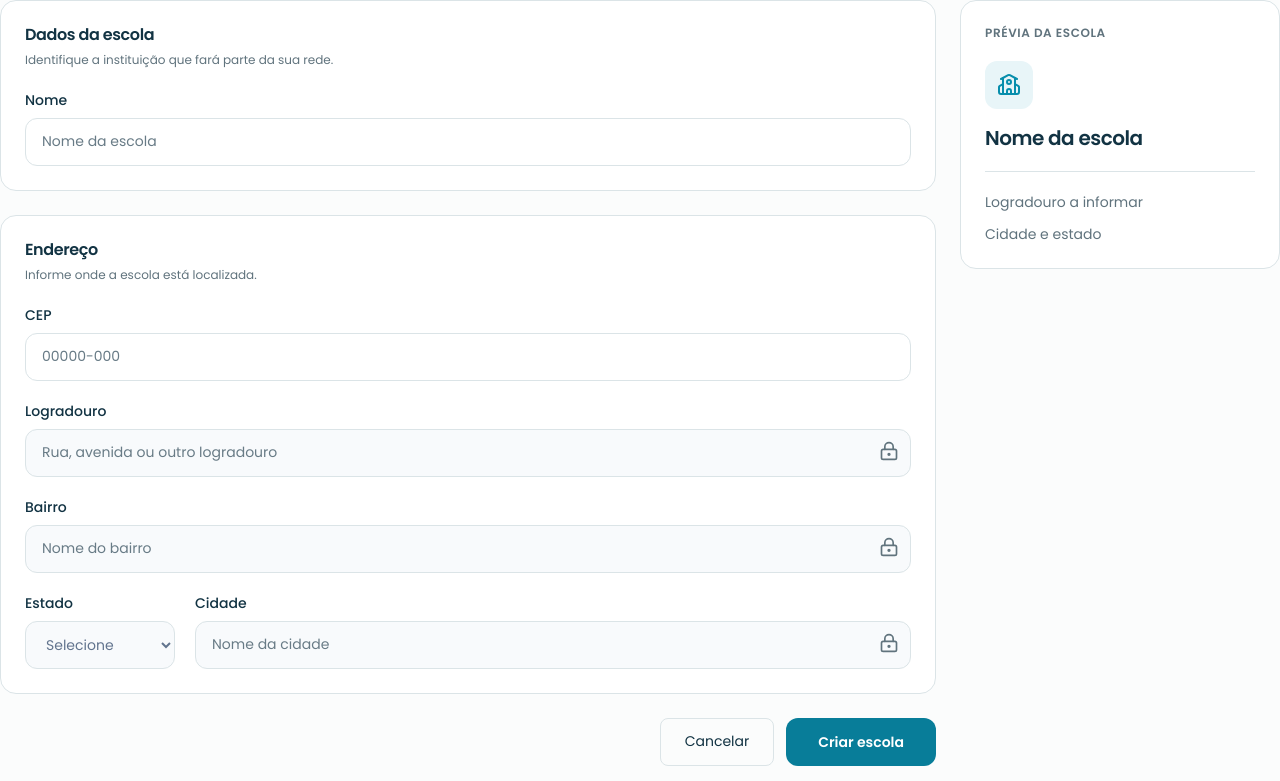
Test: escola consulta CEP, trava endereço encontrado e salva payload
Later steps or results of the test are not shown.
Submit the form
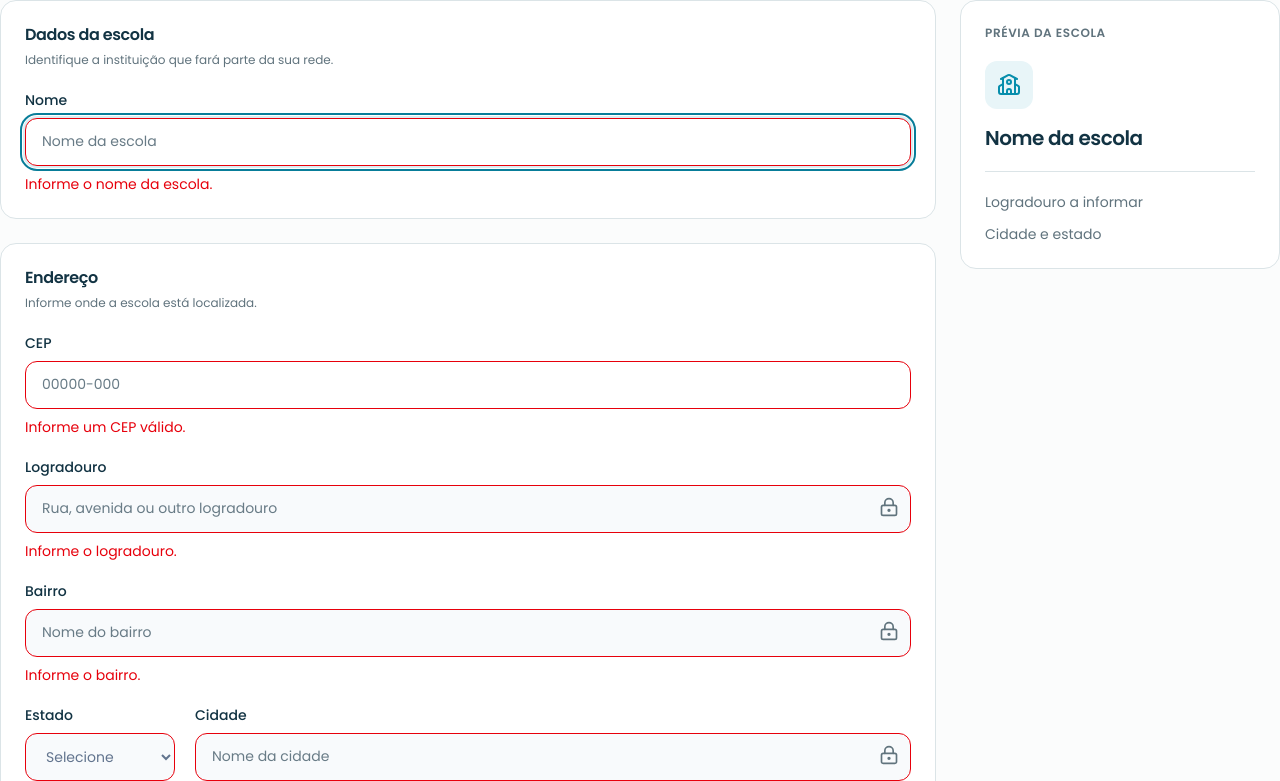
Expected: the field labelled "Logradouro" is disabled, top-left (25, 485), bottom-right (911, 533)
Expected: the message "Informe o nome da escola." is shown, top-left (25, 174), bottom-right (212, 194)
Type "Escola Teste" into the field named "name" at (468, 142), box top-left (25, 118), bottom-right (911, 166)
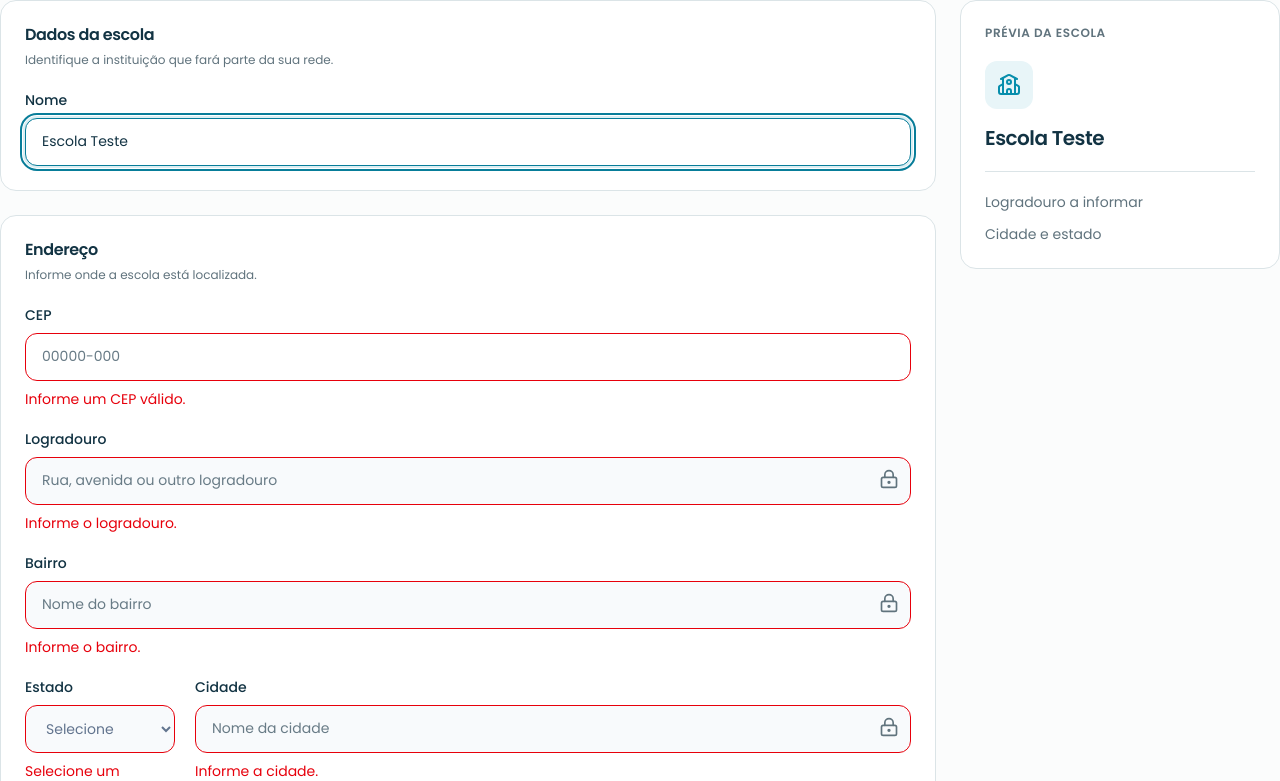
Type "01001000" into the field labelled "CEP" at (468, 357), box top-left (25, 333), bottom-right (911, 381)
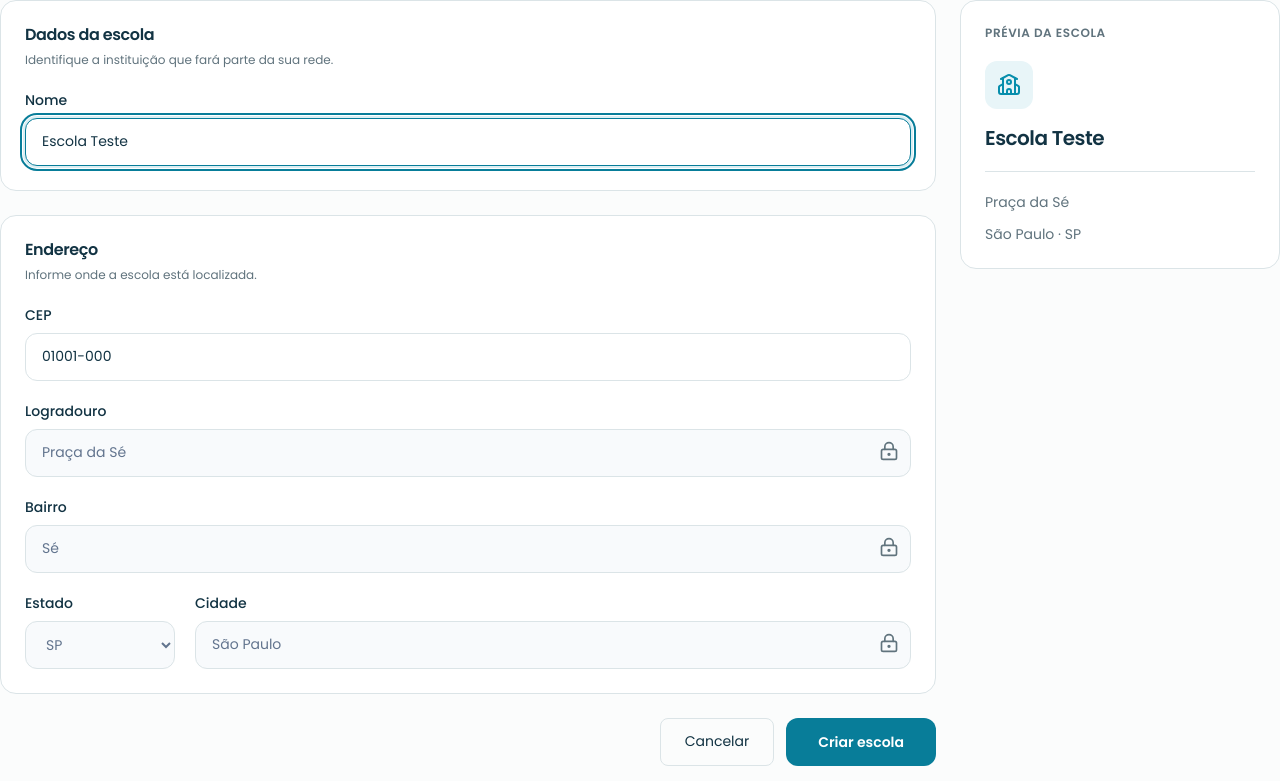
Expected: the field labelled "Cidade" is disabled, top-left (195, 621), bottom-right (911, 669)
Expected: the field labelled "Cidade" holds "São Paulo", top-left (195, 621), bottom-right (911, 669)
